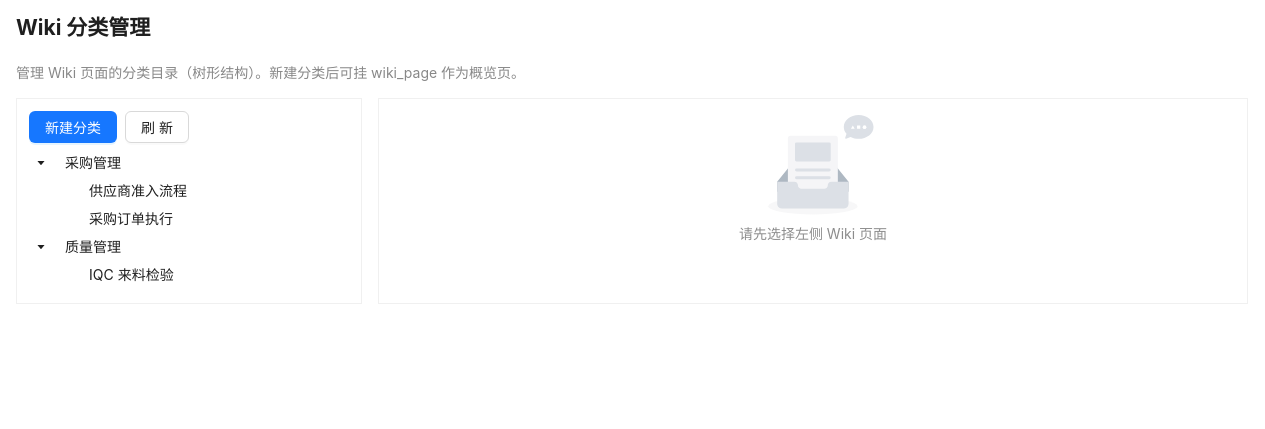
Test: AdminWikiCategoriesPage › selects a tree node and shows its details on the right panel
Click the element showing "采购管理" at (93, 162), box x1=65 y1=154 x2=121 y2=171
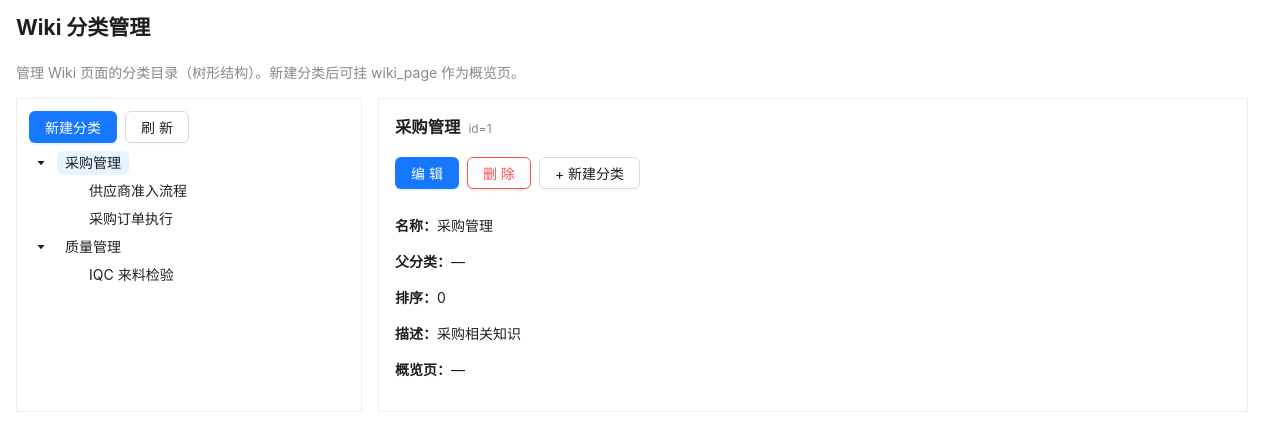
Now the heading "采购管理" is shown, box x1=395 y1=117 x2=492 y2=137
Now the text "采购相关知识" is shown, box x1=437 y1=325 x2=521 y2=342
Now the button "编 辑" is shown, box x1=395 y1=157 x2=459 y2=189
